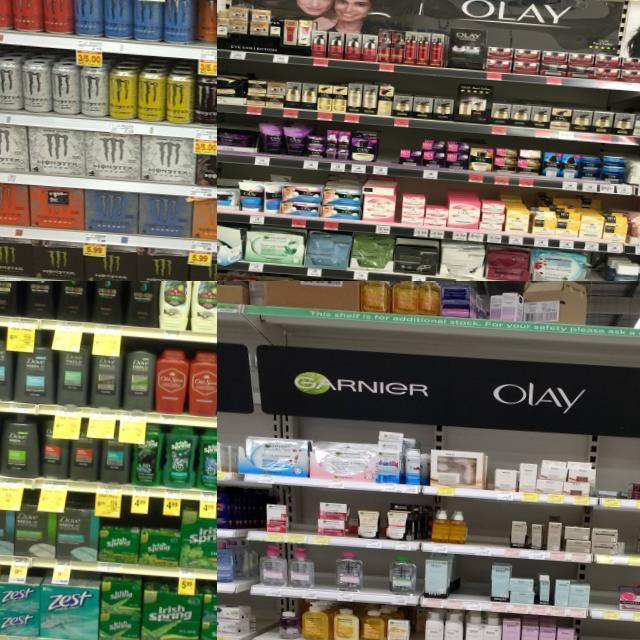empty: (467, 506, 507, 556), (360, 550, 390, 604), (288, 495, 318, 543), (466, 557, 492, 610), (592, 574, 621, 619), (314, 548, 336, 600), (378, 132, 399, 175), (584, 623, 636, 640), (258, 604, 280, 640), (622, 525, 640, 565), (453, 558, 467, 608), (590, 252, 610, 281)
